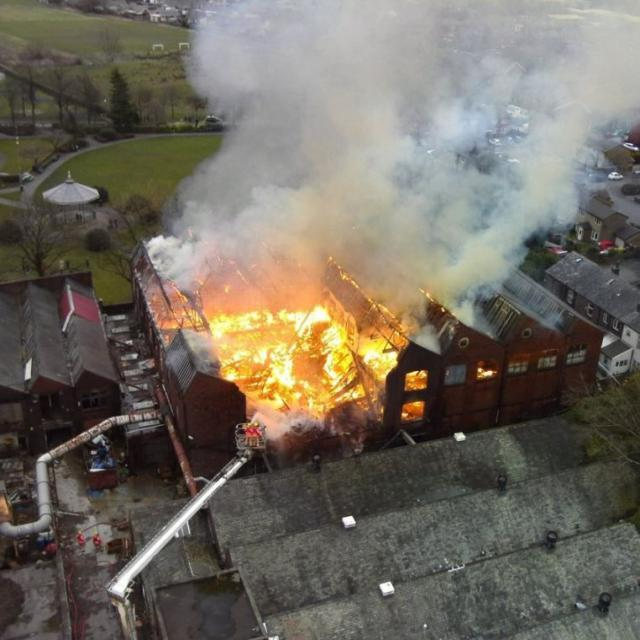Fire: (208, 298, 394, 416)
Smoke: (157, 8, 632, 300)
